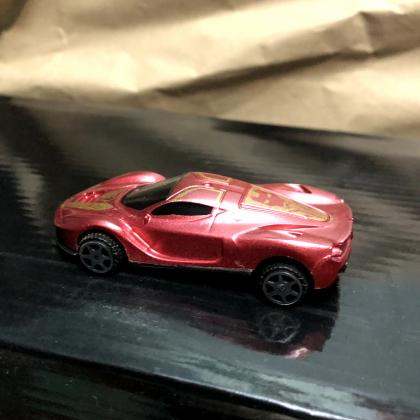Car: (53, 172, 354, 309)
